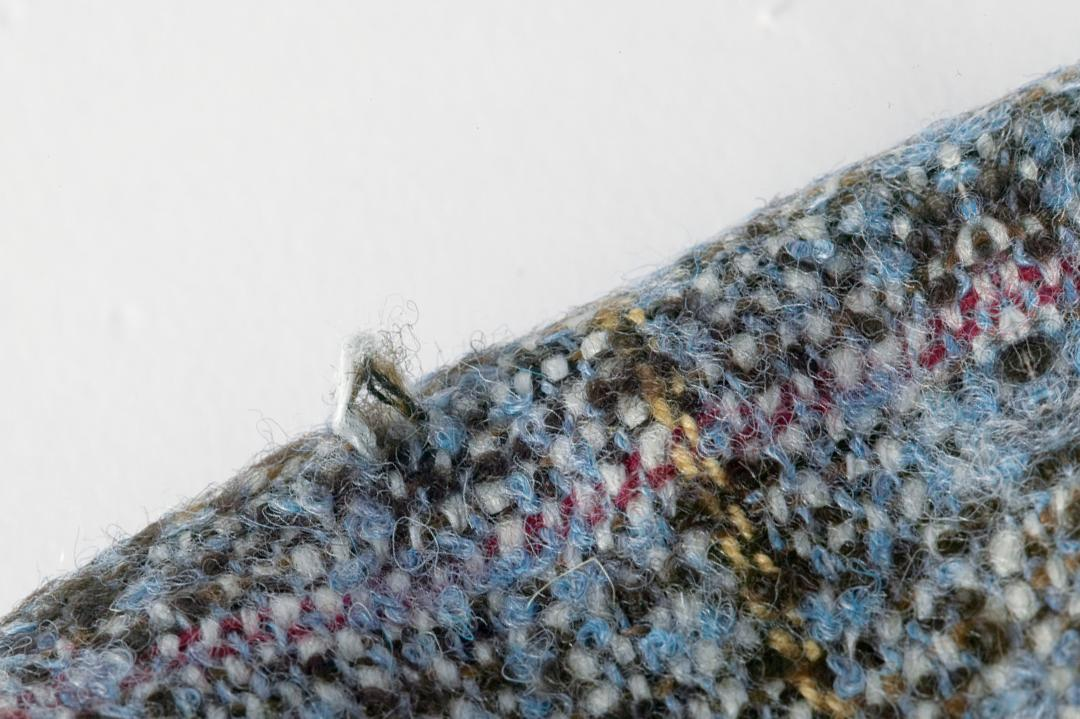snag: (312, 322, 491, 492)
